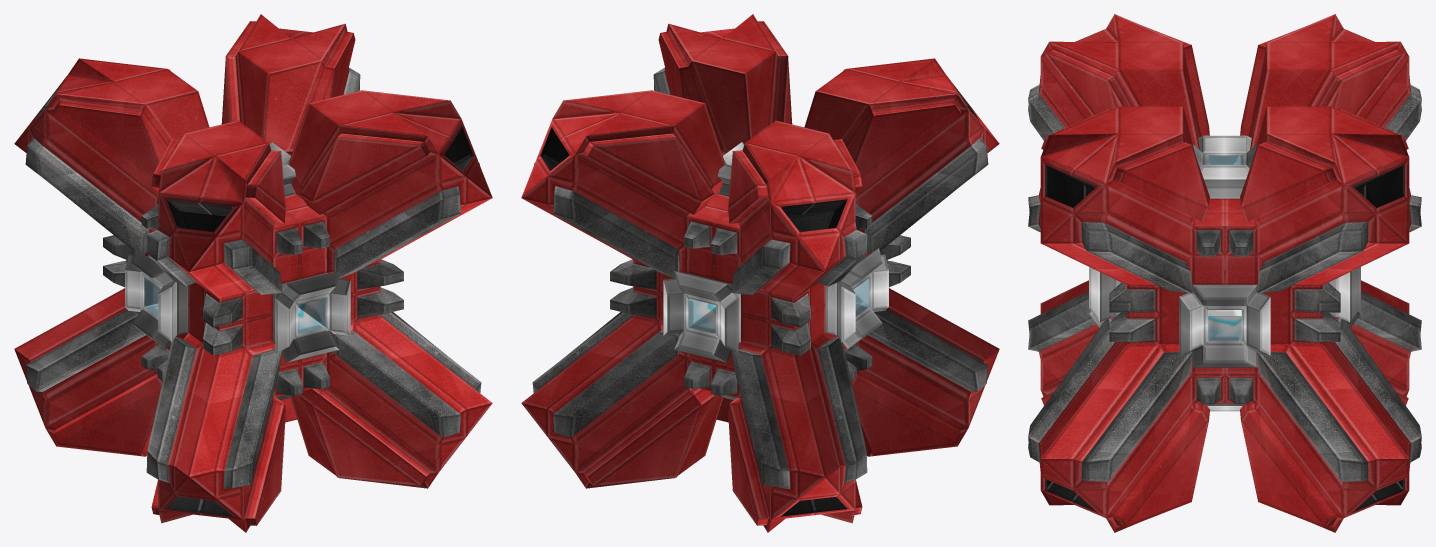
File: CuboDura_corpus.FBX
3 renders of one model, left to right at view 1: azimuth 30°, elevation 25°; view 2: azimuth 150°, elevation 25°; view 3: azimuth 270°, elevation 25°, orthographic. The views are drawn at different scales.
Visible parts, largest first — view 1: Boss; view 2: Boss; view 3: Boss.
Boxes of the visible parts, box(x1,y1,x2,y2) form: Boss: box(14, 14, 492, 532); Boss: box(521, 14, 999, 532); Boss: box(1028, 14, 1421, 532).
Size of the model in its own units: 4.02 by 4.18 by 4.02.
